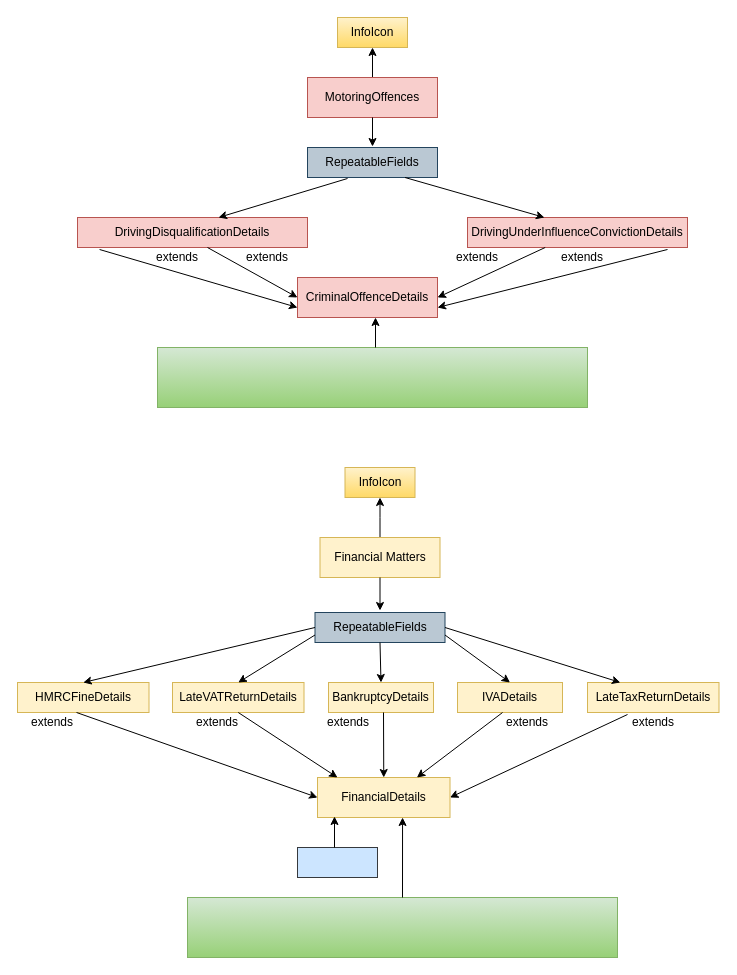
Image size: 737x975. Some labels were removed from this diagram. Each missing label, with the centre of its shape:
"FinancialYear" goes at (x=337, y=862).
"TextField, DateInput, TextAreaInput (various form fields)" goes at (x=402, y=927).
"TextField, DateInput, TextAreaInput etc (various form fields)" goes at (x=372, y=377).
